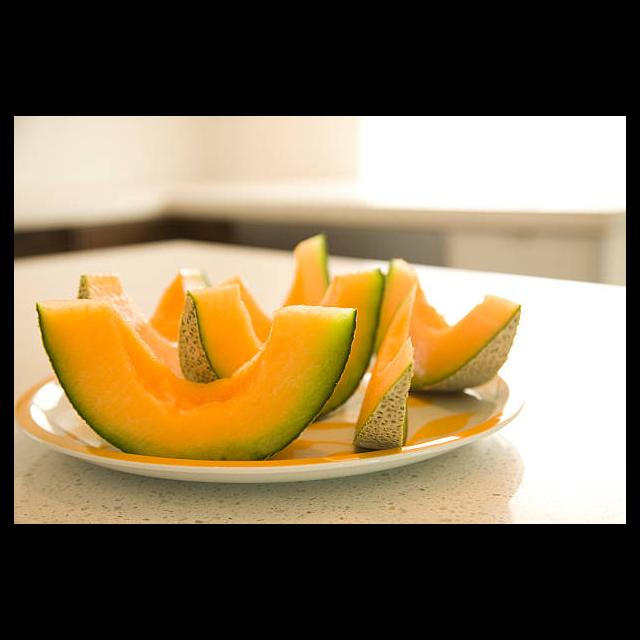Hami Melon: (37, 300, 357, 460), (379, 258, 522, 392), (359, 284, 416, 452)
